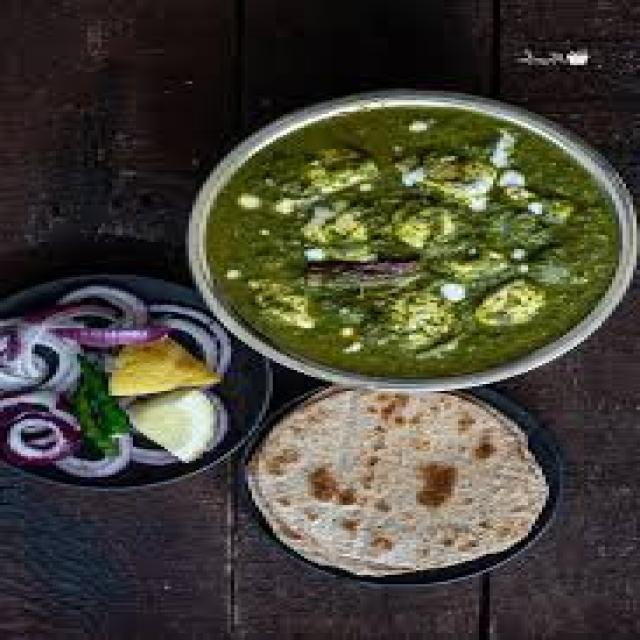Palak Paneer: (197, 106, 626, 386)
